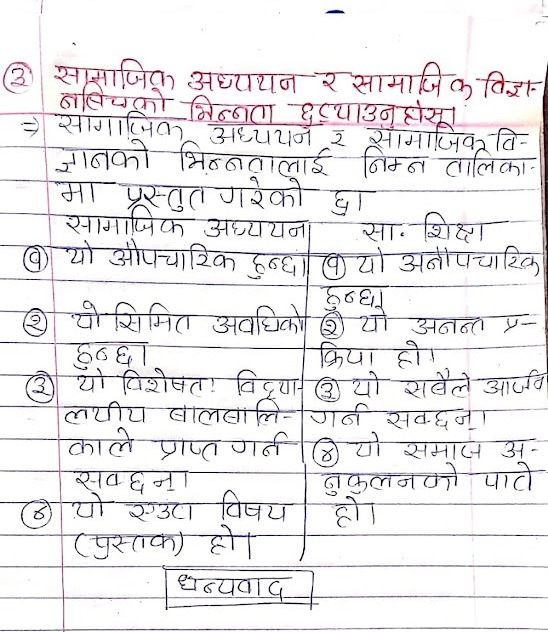text: (171, 139, 332, 180), (351, 59, 473, 103), (319, 461, 466, 495), (397, 244, 541, 277), (107, 236, 238, 272), (61, 206, 194, 241), (49, 56, 177, 92), (288, 98, 458, 125), (165, 397, 294, 429), (55, 110, 186, 140), (51, 139, 152, 177), (212, 174, 308, 213), (172, 571, 291, 602), (186, 65, 308, 95), (55, 81, 170, 112), (365, 124, 488, 152), (109, 298, 195, 338), (116, 177, 209, 213), (69, 466, 182, 495), (201, 213, 309, 243), (212, 302, 306, 336), (414, 209, 507, 243), (120, 366, 215, 399), (176, 93, 276, 124), (205, 122, 320, 148), (438, 149, 533, 180), (216, 488, 295, 523), (383, 404, 478, 432), (59, 397, 147, 427), (88, 531, 176, 561), (61, 428, 138, 460), (357, 145, 429, 179), (225, 367, 301, 399), (401, 436, 484, 464), (477, 69, 544, 101), (312, 339, 380, 370), (120, 498, 198, 525), (149, 436, 221, 465), (479, 366, 548, 396), (476, 460, 538, 493), (402, 371, 475, 399), (69, 339, 137, 369), (243, 249, 301, 283), (50, 177, 112, 208), (229, 430, 288, 462), (407, 314, 488, 337), (316, 282, 379, 311), (309, 402, 369, 429), (66, 298, 107, 332), (202, 524, 240, 557), (346, 429, 385, 461), (357, 218, 400, 246), (68, 492, 109, 521), (330, 496, 365, 529), (394, 339, 427, 373), (324, 183, 355, 218), (355, 245, 388, 277), (62, 239, 97, 268), (348, 370, 383, 399), (72, 369, 110, 395), (491, 126, 522, 154), (317, 65, 345, 95), (358, 309, 390, 334), (497, 436, 529, 459), (498, 310, 522, 335), (326, 123, 349, 149), (29, 375, 53, 399), (6, 66, 28, 88), (24, 313, 45, 334), (29, 502, 48, 523), (321, 317, 339, 339), (27, 249, 44, 271), (324, 256, 343, 275), (318, 382, 336, 401), (318, 446, 336, 464)
